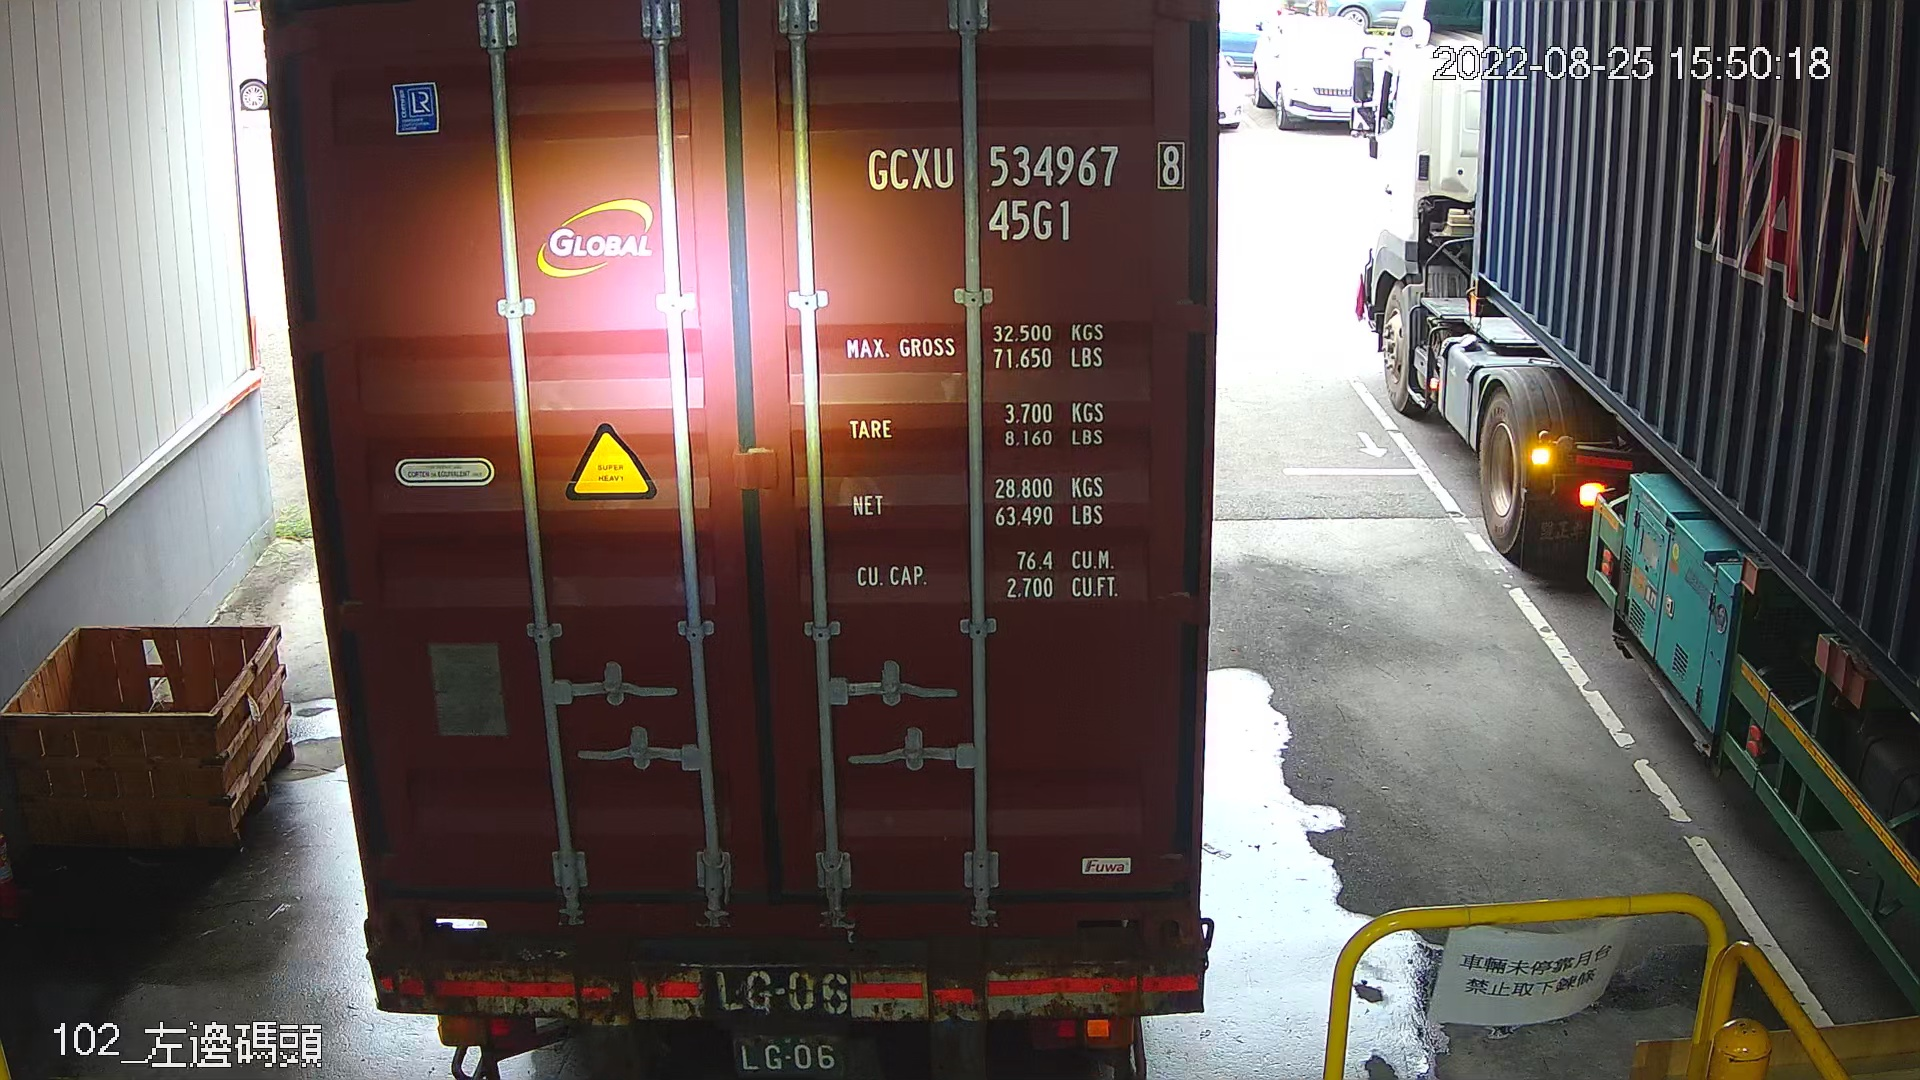container: (855, 129, 1193, 255)
